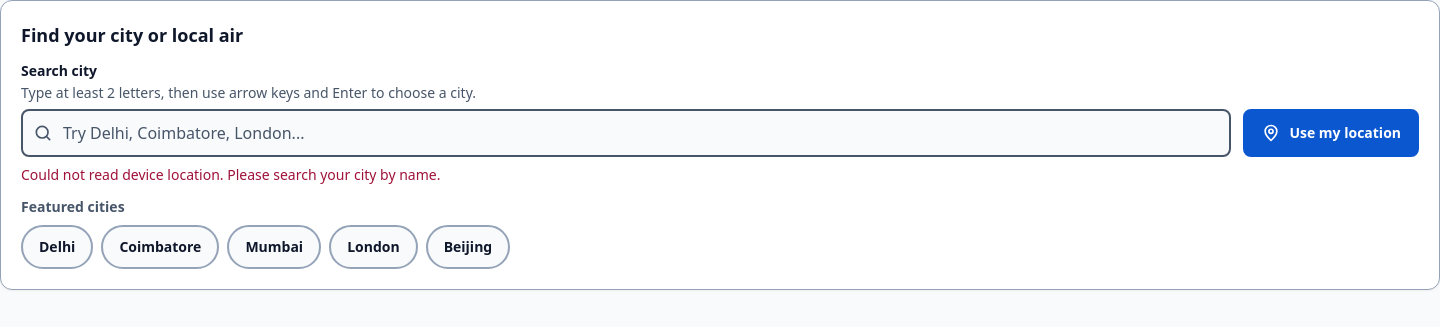
Scenario: CitySearchBar renders empty, 429 rate-limited, and error responses
Expected: the text "Could not read device location" is shown, [21, 165, 440, 184]
Type "Nowhere" into the dropdown.
click(626, 133); type("Nowhere")  # box [21, 109, 1231, 157]
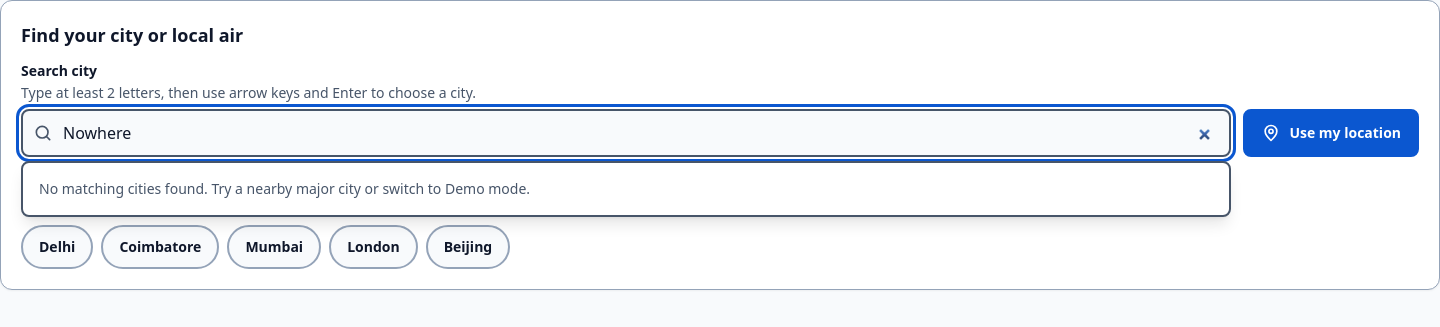
Result: the list item "No matching cities found" is shown at [39, 179, 530, 198]
Replace the text in the dropdown with "WaitCity" at (626, 133), box [21, 109, 1231, 157]
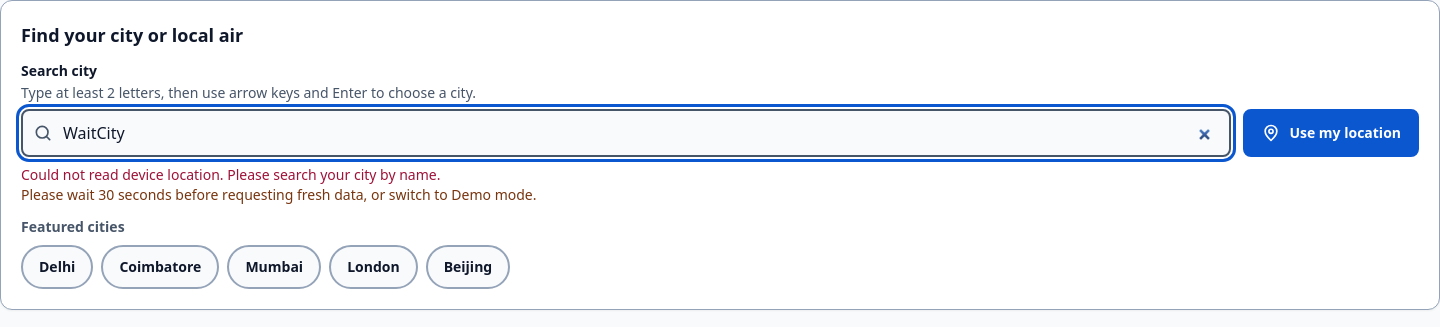
Result: the text "Please wait" is shown at [21, 185, 536, 204]
Replace the text in the dropdown with "ErrCity" at (626, 133), box [21, 109, 1231, 157]
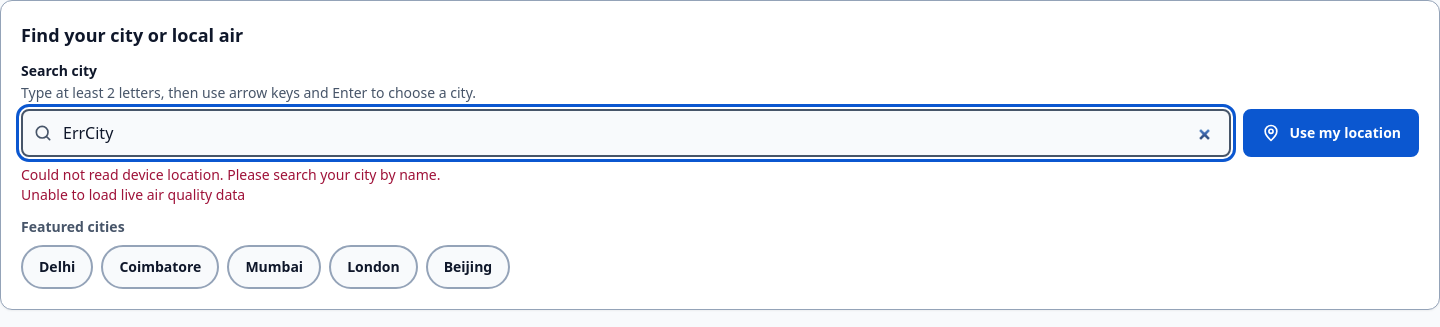
Result: the text "Unable to load live air quality data" is shown at [21, 185, 245, 204]
